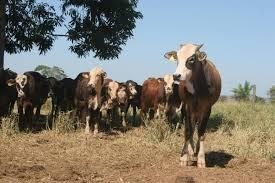cow: (164, 42, 222, 168), (7, 70, 51, 131), (72, 66, 106, 134), (140, 73, 175, 120), (118, 80, 138, 130), (103, 78, 122, 129)
